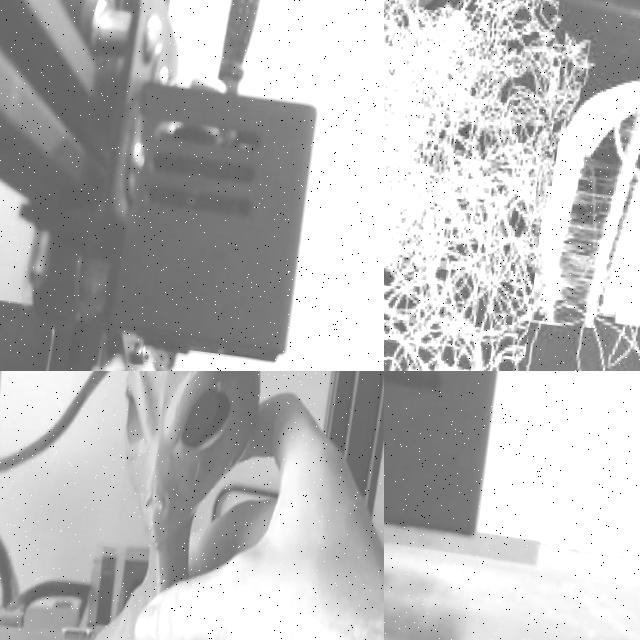spaghetti: (384, 0, 565, 371), (512, 0, 640, 371), (153, 350, 171, 371)
